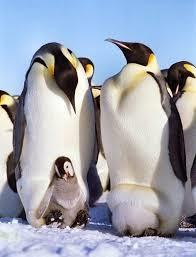emporer: (7, 27, 107, 240), (94, 27, 183, 243)
